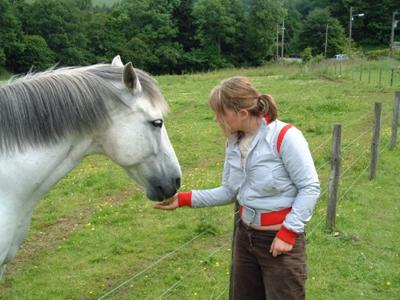person: (153, 77, 323, 300)
